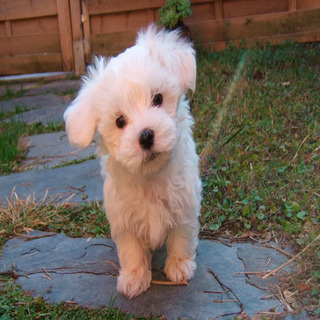perro: (61, 16, 233, 201)
